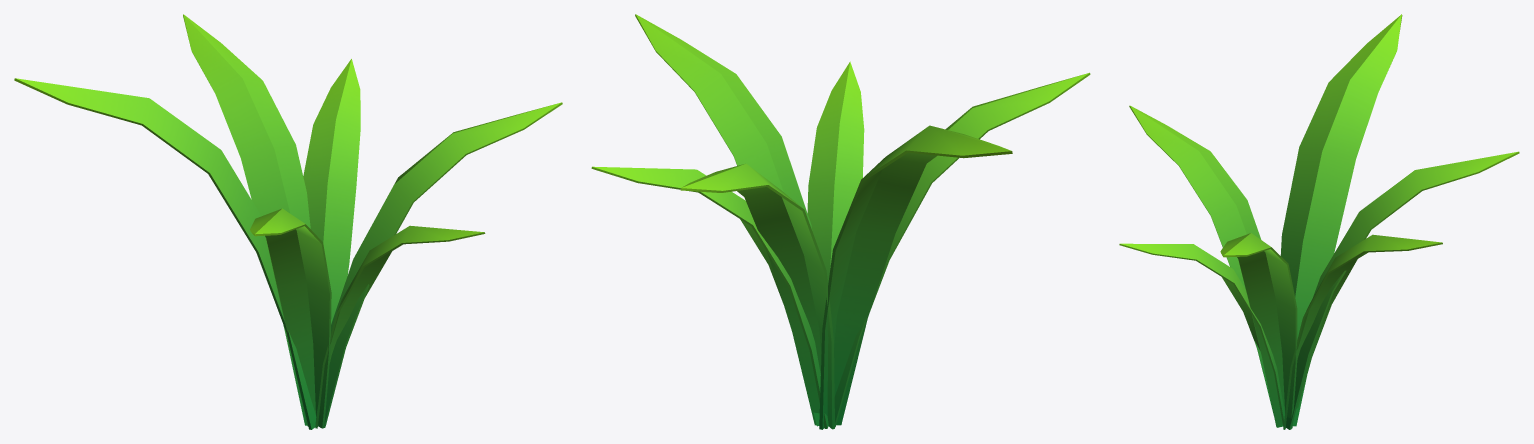
Rendered from ENV_Grass.fbx.
3 views of the same model, side by side, from view 1: azimuth 30°, elevation 25°; view 2: azimuth 150°, elevation 25°; view 3: azimuth 270°, elevation 25° (orthographic). The views are drawn at different scales.
Parts seen in each view (by area): view 1: SeaGrass; view 2: SeaGrass; view 3: SeaGrass.
Boxes of the visible parts, x1,y1,x2,y2 form: SeaGrass: (14, 14, 562, 429); SeaGrass: (591, 14, 1090, 429); SeaGrass: (1119, 14, 1519, 429).
Bounding box in the file's own units: 43.31 × 32.96 × 38.38.
